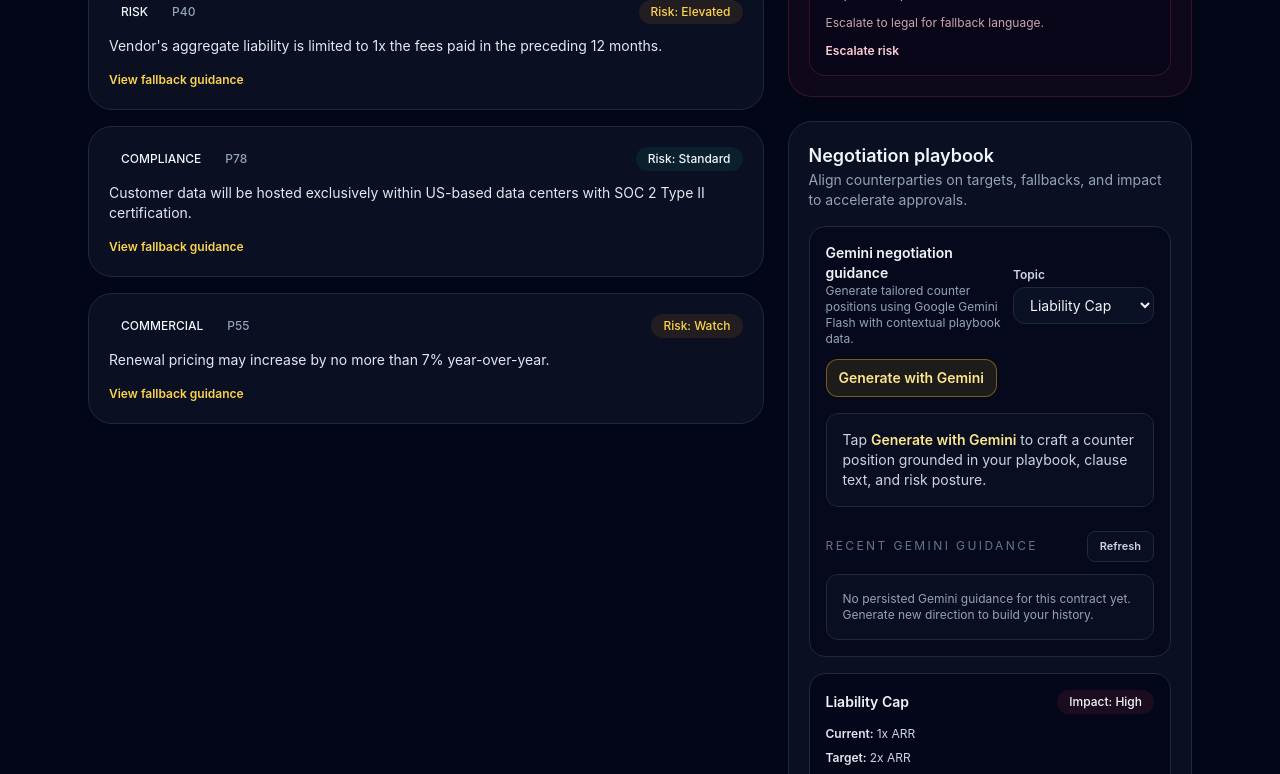
Test: ContractDetail › generates Gemini guidance for the selected topic
(page scrolled)
Expected: the heading "Negotiation playbook" is shown, [808,145,994,166]
Step 1. Click the button "Generate with Gemini" → (911, 378), box [826,359,997,397]
(page scrolled)
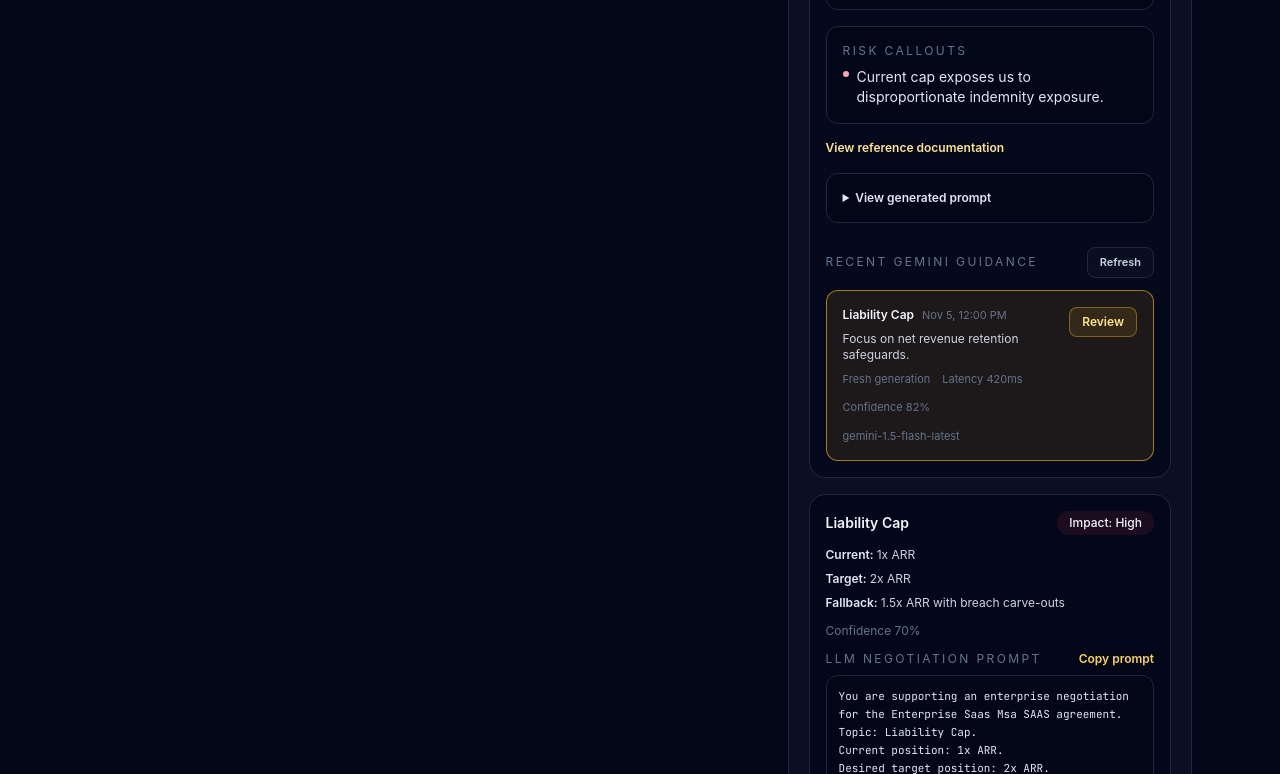
Expected: the heading "Risk callouts" is shown, [842,43,967,58]
Expected: the text "Fresh generation" is shown, [842,370,930,387]
